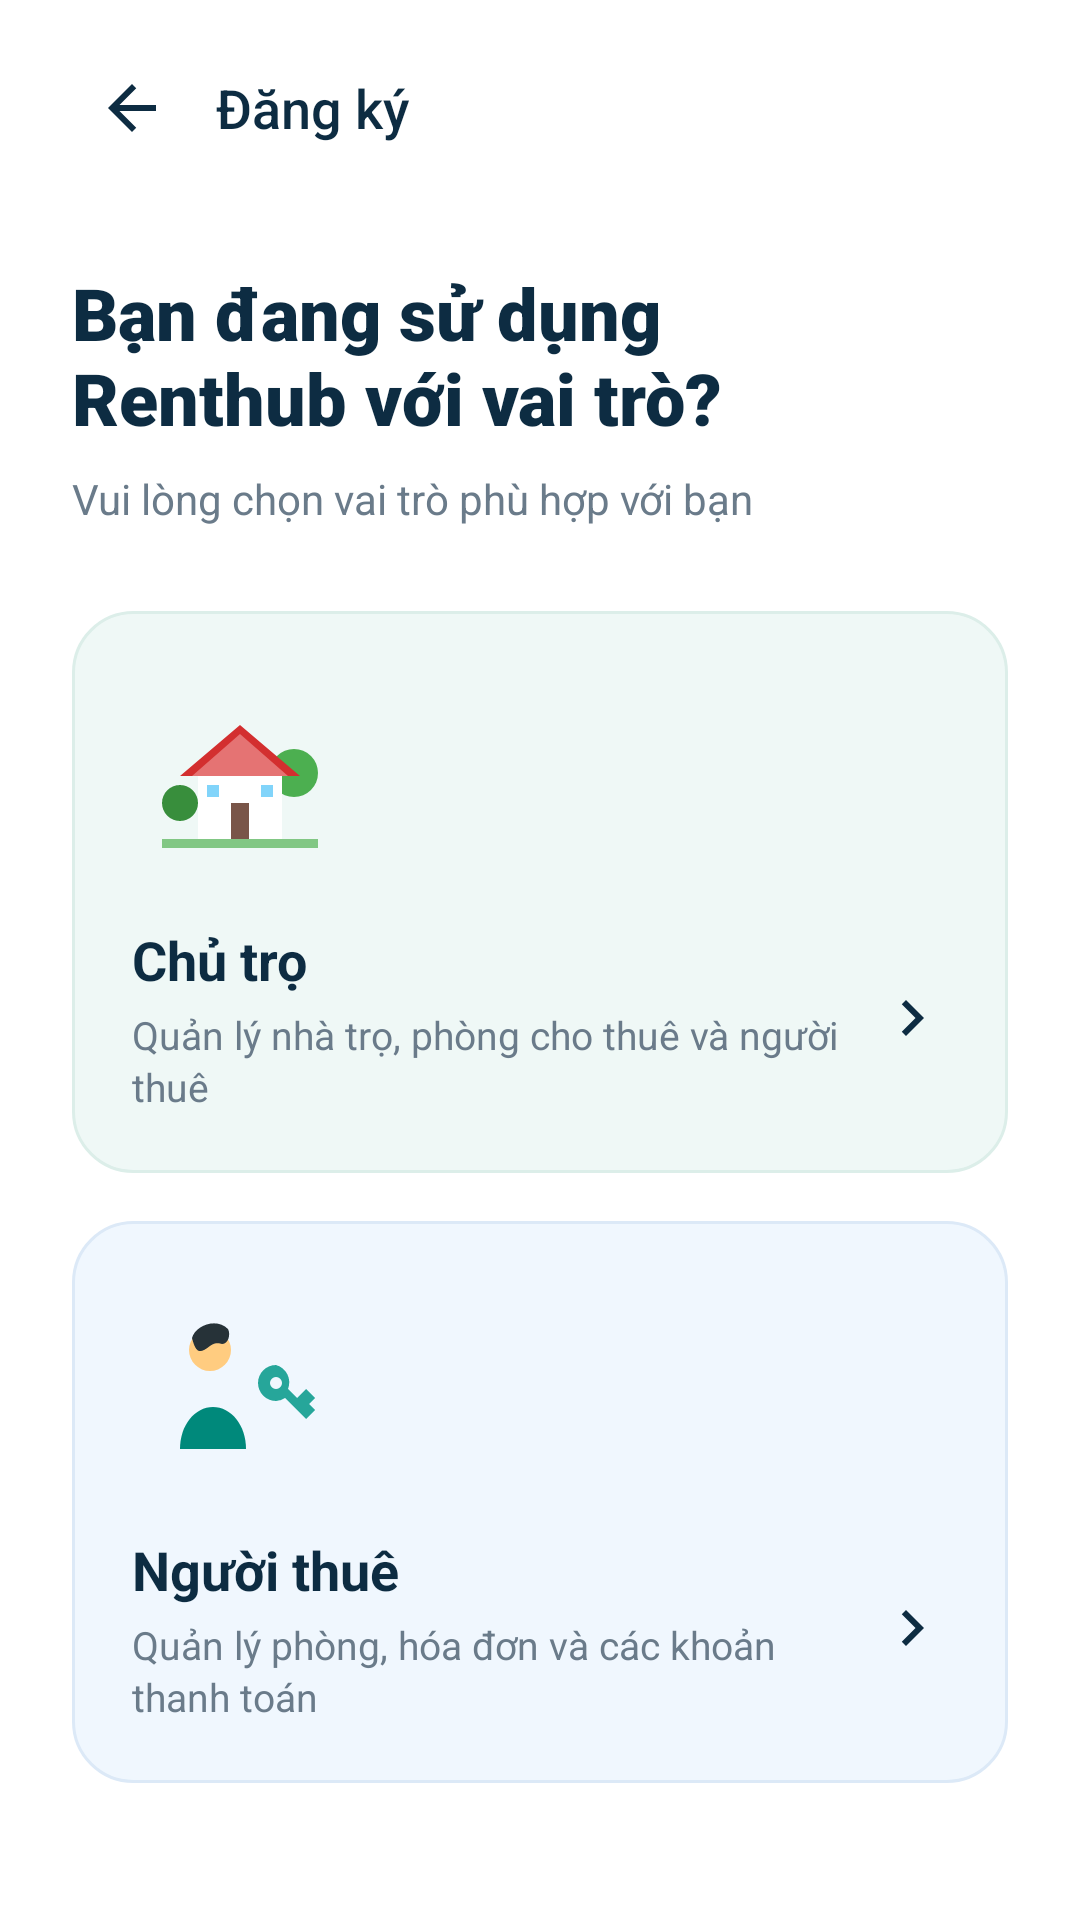

Where to tap for icons on this 1080 × 1920 app screen, as point (x, y):
Chọn: point (913, 1018), point (913, 1628)
Quay lại: point (132, 108)
